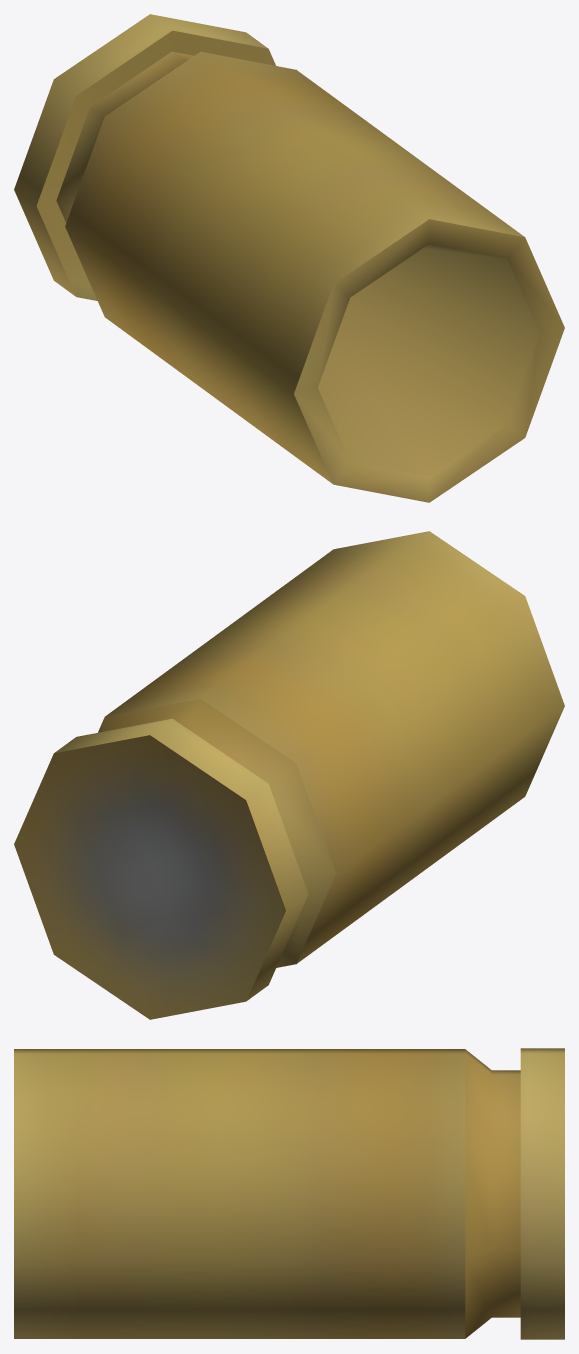
The model's file is AmmoEmpty.fbx.
3 views of the same model, one above another, from view 1: azimuth 30°, elevation 25°; view 2: azimuth 150°, elevation 25°; view 3: azimuth 270°, elevation 25° (orthographic).
Visible parts, largest first — view 1: AmmoEmpty; view 2: AmmoEmpty; view 3: AmmoEmpty.
Boxes of the visible parts, bbox=[...] form: AmmoEmpty: bbox=[14, 14, 564, 502]; AmmoEmpty: bbox=[14, 531, 564, 1019]; AmmoEmpty: bbox=[14, 1048, 564, 1339].
Size of the model in its own units: 2.9 by 2.9 by 5.16.
